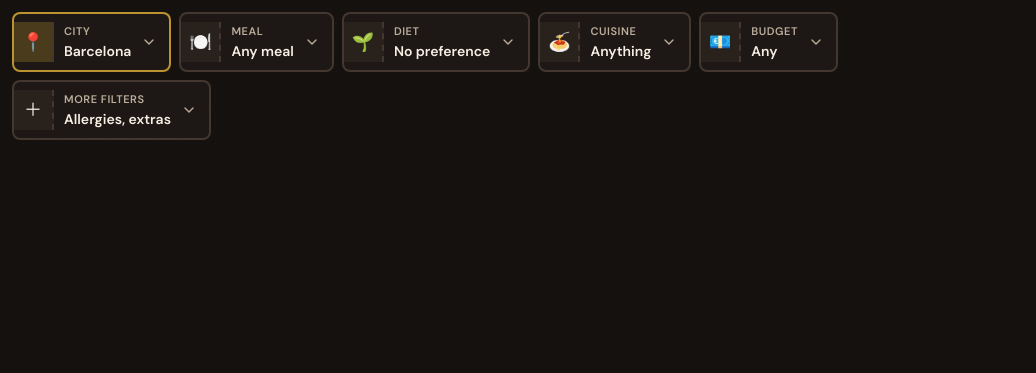
Test: PreferenceChips › warns that allergen safety can't be guaranteed
Click the button "＋ More filters Allergies, extras". click: (112, 110)
box: [12,80,211,140]
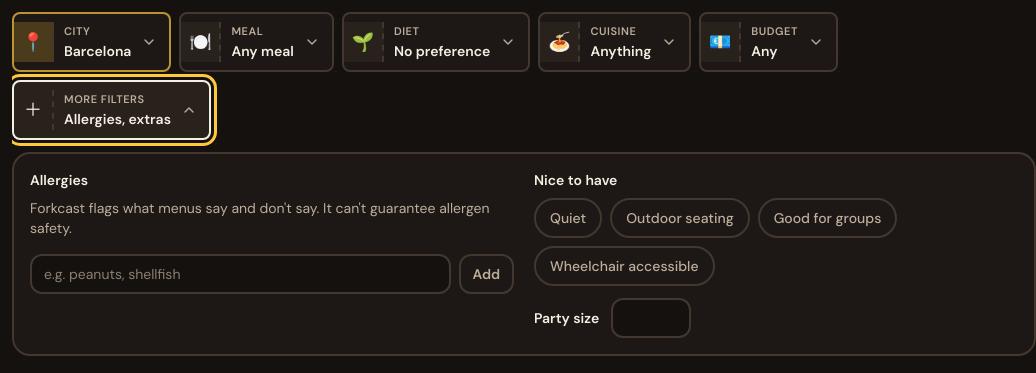
Now the text "can't guarantee allergen safety" is shown, box [30,199,490,237]
